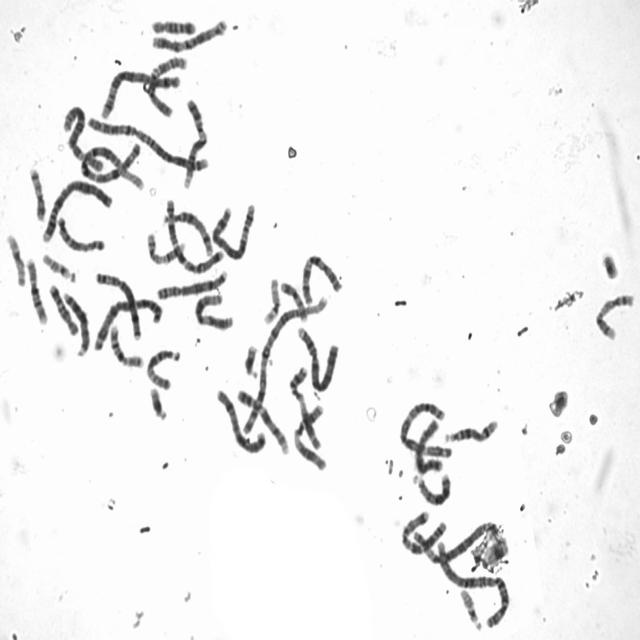A1: (238, 290, 331, 438), (78, 138, 146, 190)
A2: (83, 113, 211, 174), (432, 536, 512, 630)
A3: (90, 292, 165, 353), (398, 396, 452, 460)
B4: (39, 176, 114, 245), (295, 324, 340, 394)
B5: (98, 65, 180, 120), (208, 200, 256, 262)
C10: (144, 52, 190, 120), (298, 249, 344, 307)
C11: (286, 361, 323, 452), (292, 398, 327, 472)
C12: (150, 15, 228, 54), (192, 290, 236, 332)
C6: (400, 518, 500, 564), (60, 100, 106, 176)
C7: (164, 198, 224, 275), (400, 512, 450, 556)
C8: (91, 266, 143, 345), (154, 265, 230, 301)
C9: (233, 383, 292, 457), (181, 94, 209, 188)
D13: (60, 290, 92, 357), (410, 469, 453, 506)
D14: (162, 205, 214, 258), (441, 414, 501, 445)
D15: (54, 212, 107, 254), (144, 345, 182, 392)
E16: (23, 254, 49, 326), (106, 320, 144, 369)
E17: (592, 290, 636, 342), (144, 228, 188, 266)
E18: (46, 280, 80, 338), (149, 15, 197, 36)
F19: (3, 230, 27, 288), (262, 274, 282, 326)
F20: (278, 277, 309, 324), (27, 163, 48, 222)
G21: (146, 383, 169, 422), (241, 340, 260, 380)
G22: (457, 585, 484, 632), (40, 250, 78, 282)
X: (213, 384, 267, 456), (412, 415, 444, 477)
